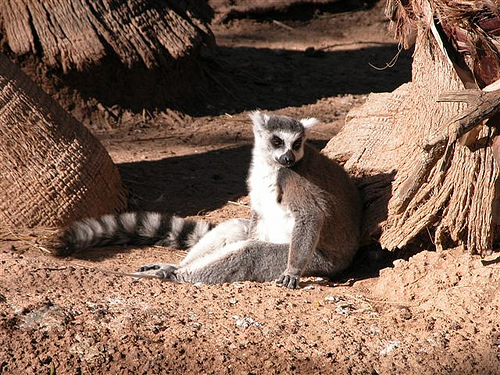cat: (45, 105, 372, 296)
